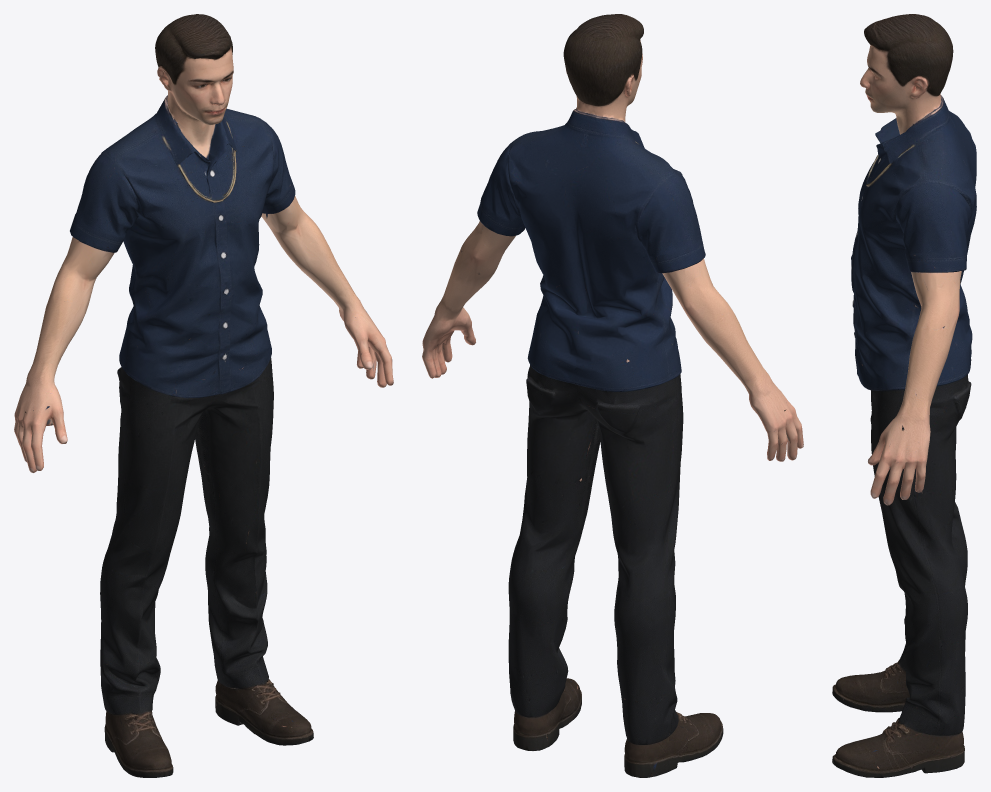
The model's file is professor-assento.glb.
3 renders of one model, left to right at view 1: azimuth 30°, elevation 25°; view 2: azimuth 150°, elevation 25°; view 3: azimuth 270°, elevation 25°, orthographic.
Visible parts, largest first — view 1: prof-hd2; view 2: prof-hd2; view 3: prof-hd2.
Part boxes in pixels (x1,y1,x2,y2): prof-hd2: (14, 14, 393, 777); prof-hd2: (422, 14, 803, 777); prof-hd2: (832, 14, 976, 777).
Size of the model in its own units: 0.9008 by 1.7 by 0.3106.
Materials: 1 (1 with a texture image).
